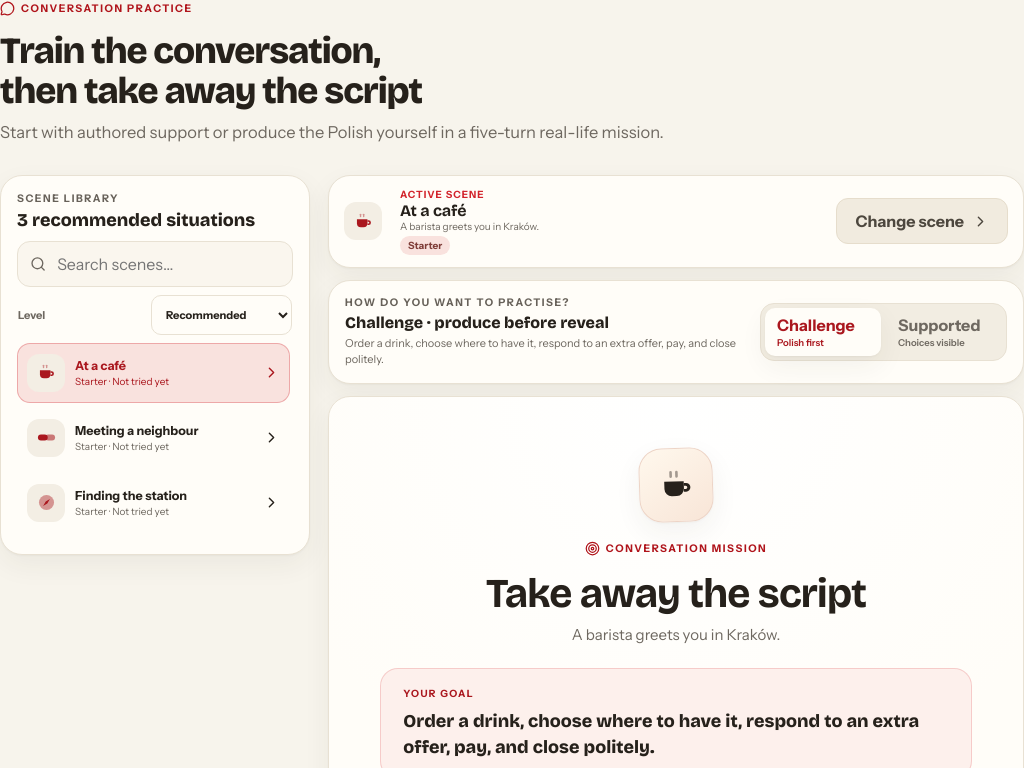
Test case: dialogue scene browser › keeps the active scene prominent and filters the scene library
Expected: the text "ACTIVE SCENE" is shown, [400,188,484,201]
Click the button "Change scene".
click(922, 221)  # box [836,198,1008,244]
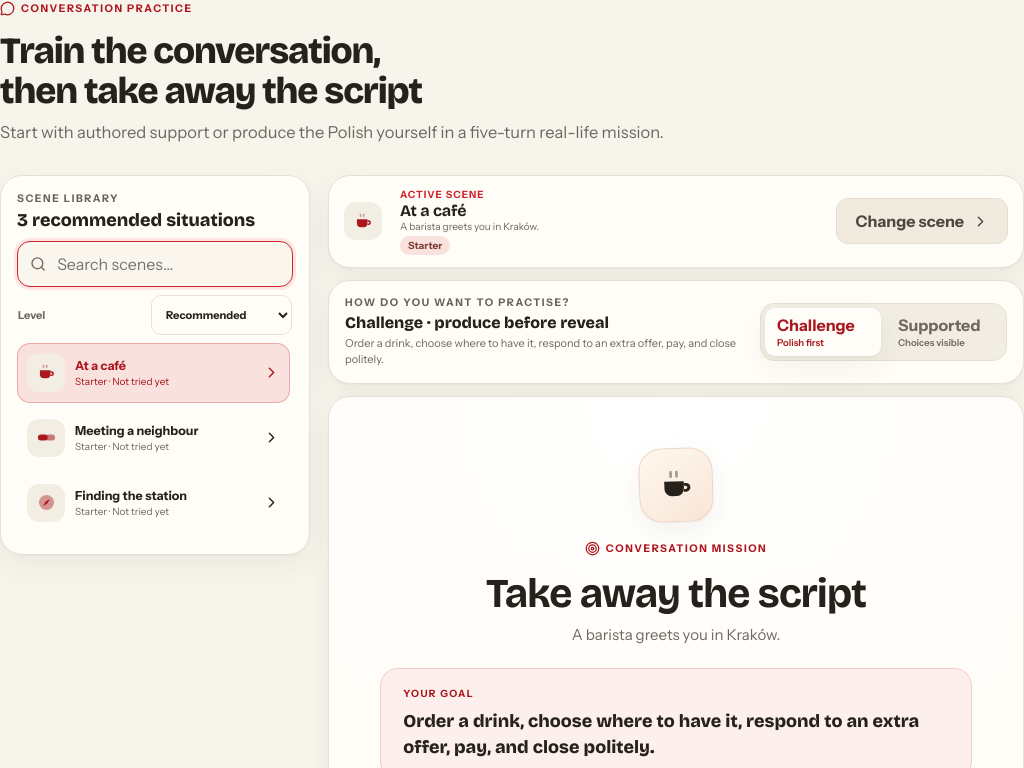
Type "neighbour" into the search field named "search conversation scenes".
click(168, 264); type("neighbour")  # box [55,242,280,286]
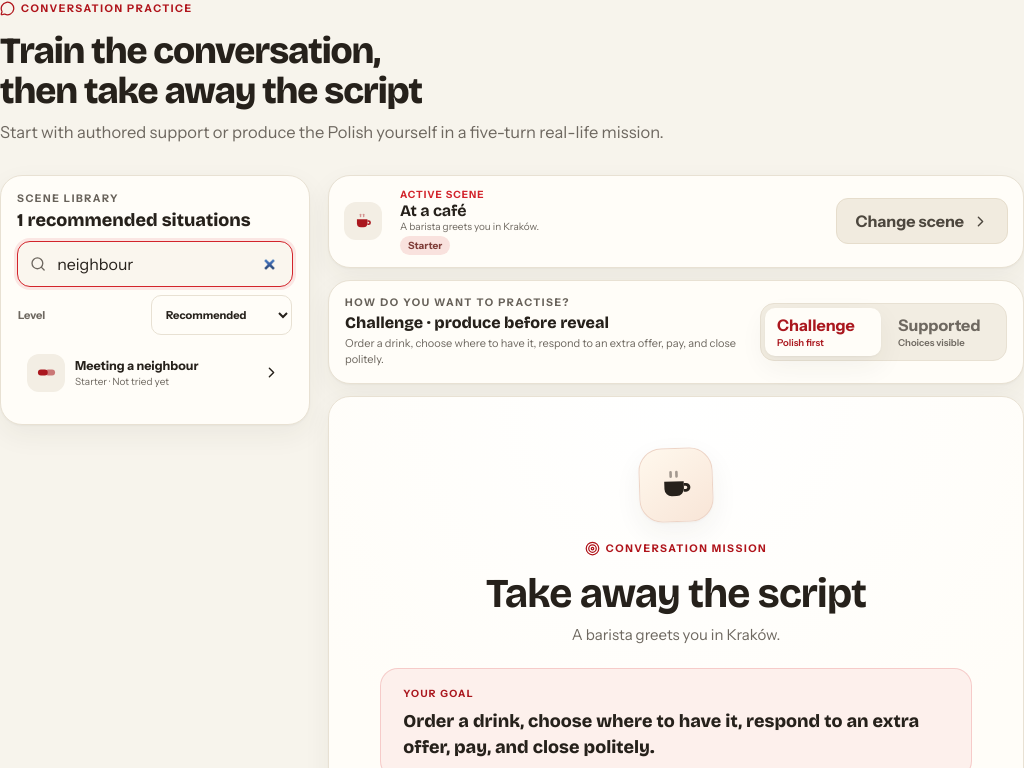
Click the button "Meeting a neighbour Starter · Not tried yet".
click(154, 373)  # box [17,343,290,403]
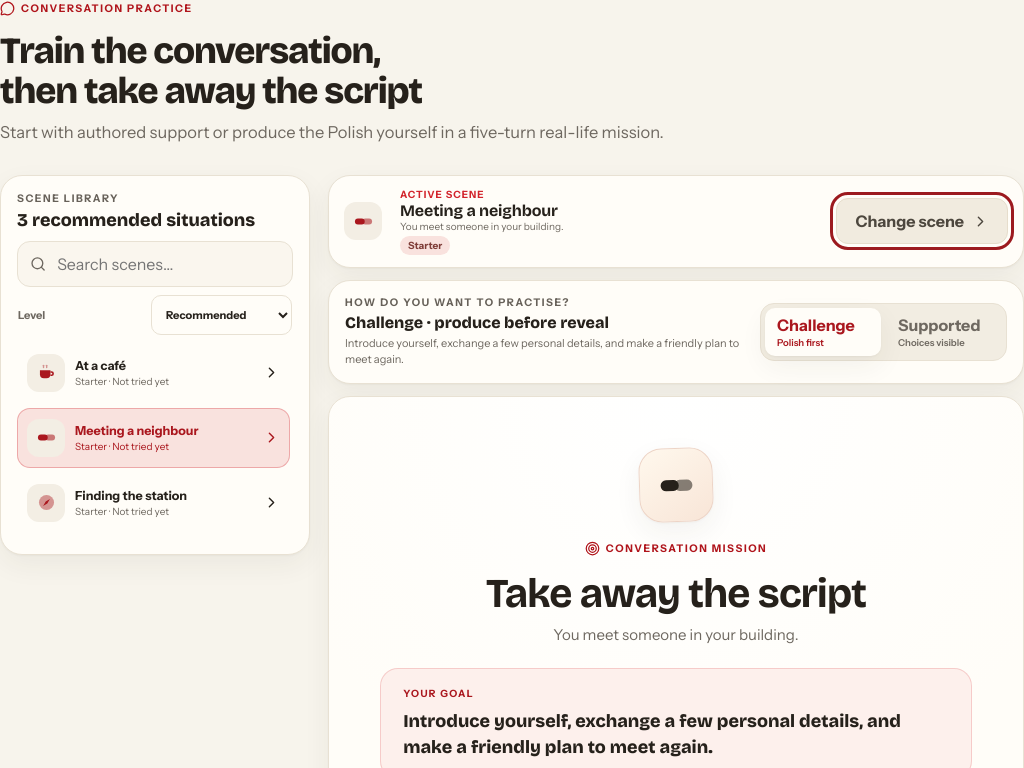
Expected: the text "You meet someone in your building." below "ACTIVE SCENE" is shown, [400,220,564,233]
